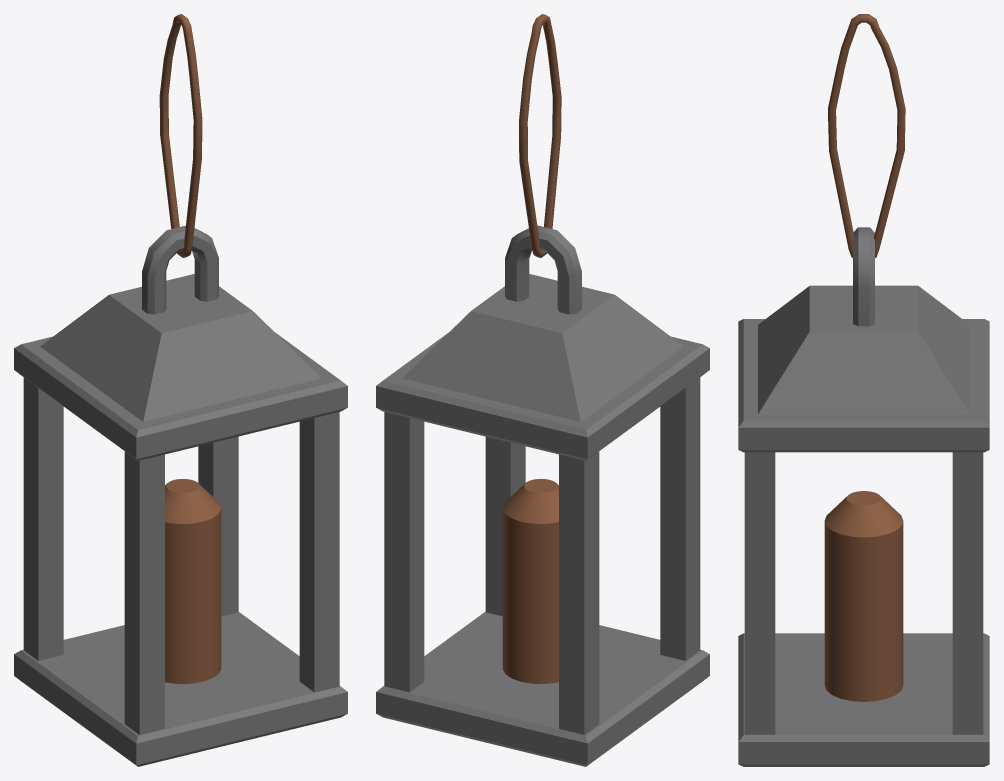
The model's file is Lantern.fbx.
The picture shows the model from 3 angles, left to right: view 1: azimuth 30°, elevation 25°; view 2: azimuth 150°, elevation 25°; view 3: azimuth 270°, elevation 25°; orthographic projection. The views are drawn at different scales.
Visible parts, largest first — view 1: Lantern; view 2: Lantern; view 3: Lantern.
Boxes of the visible parts, x1=… form: Lantern: x1=14, y1=14, x2=347, y2=766; Lantern: x1=376, y1=14, x2=709, y2=766; Lantern: x1=738, y1=14, x2=989, y2=766.
Bounding box in the file's own units: 28.78 × 88.7 × 28.78.
